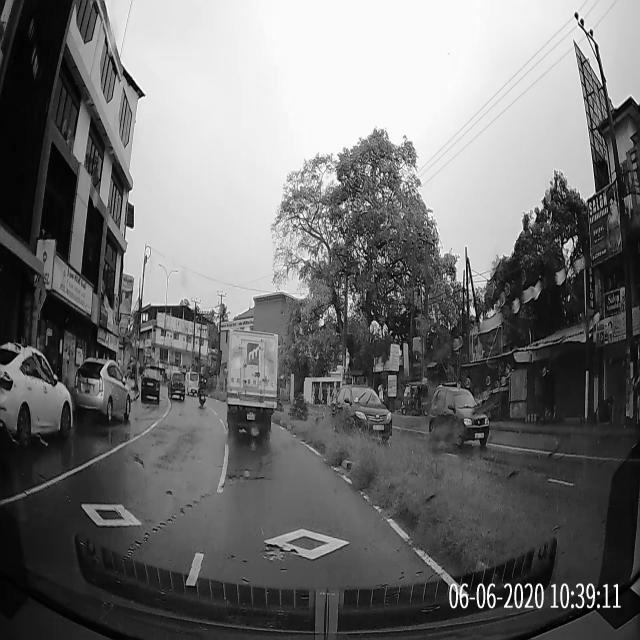diamond: (192, 526, 442, 566)
